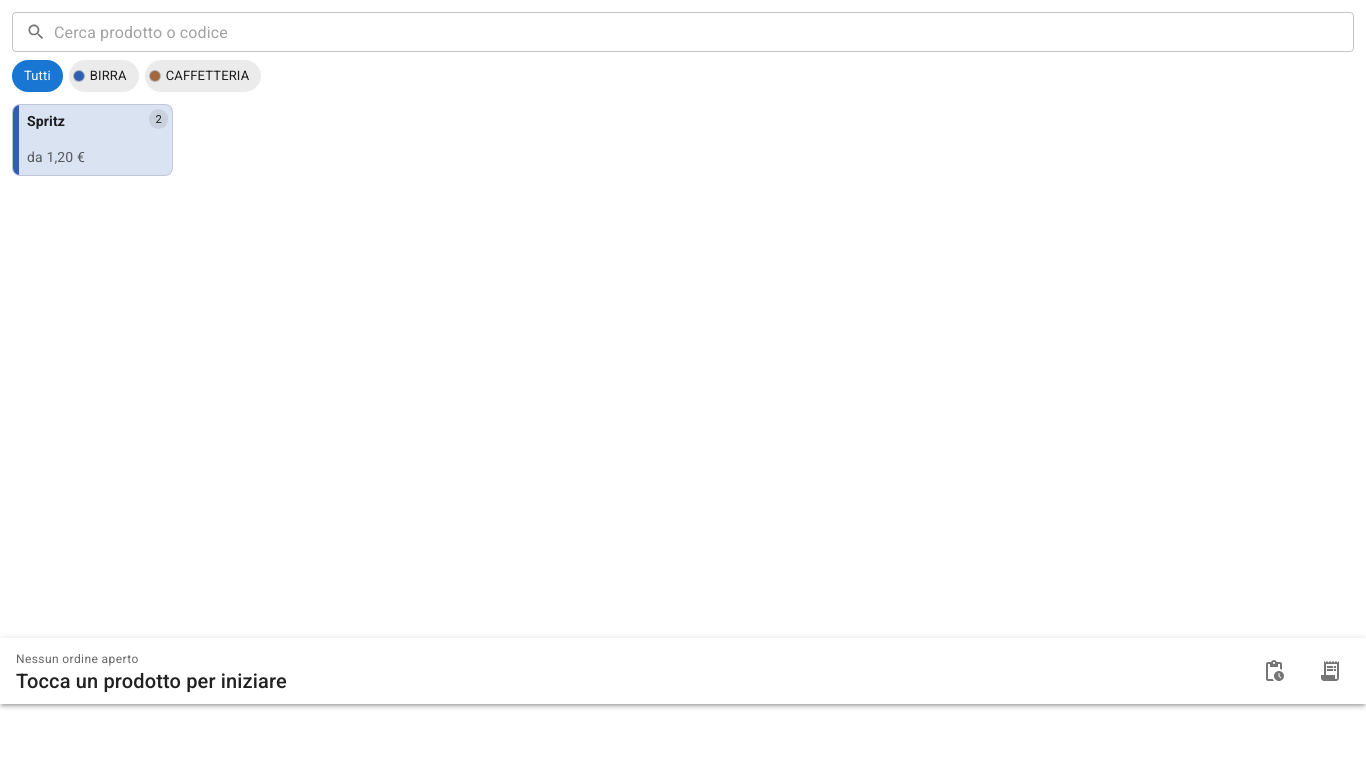
Scenario: PuntoVendita › gruppi di prodotti › una ricerca scioglie i gruppi e torna al listino piatto
Expected: the text "Spritz" is shown, [27,113,65,130]
Type "espresso" into the field with placeholder "Cerca prodotto o codice". click: (704, 32)
box: [54,12,1354,52]
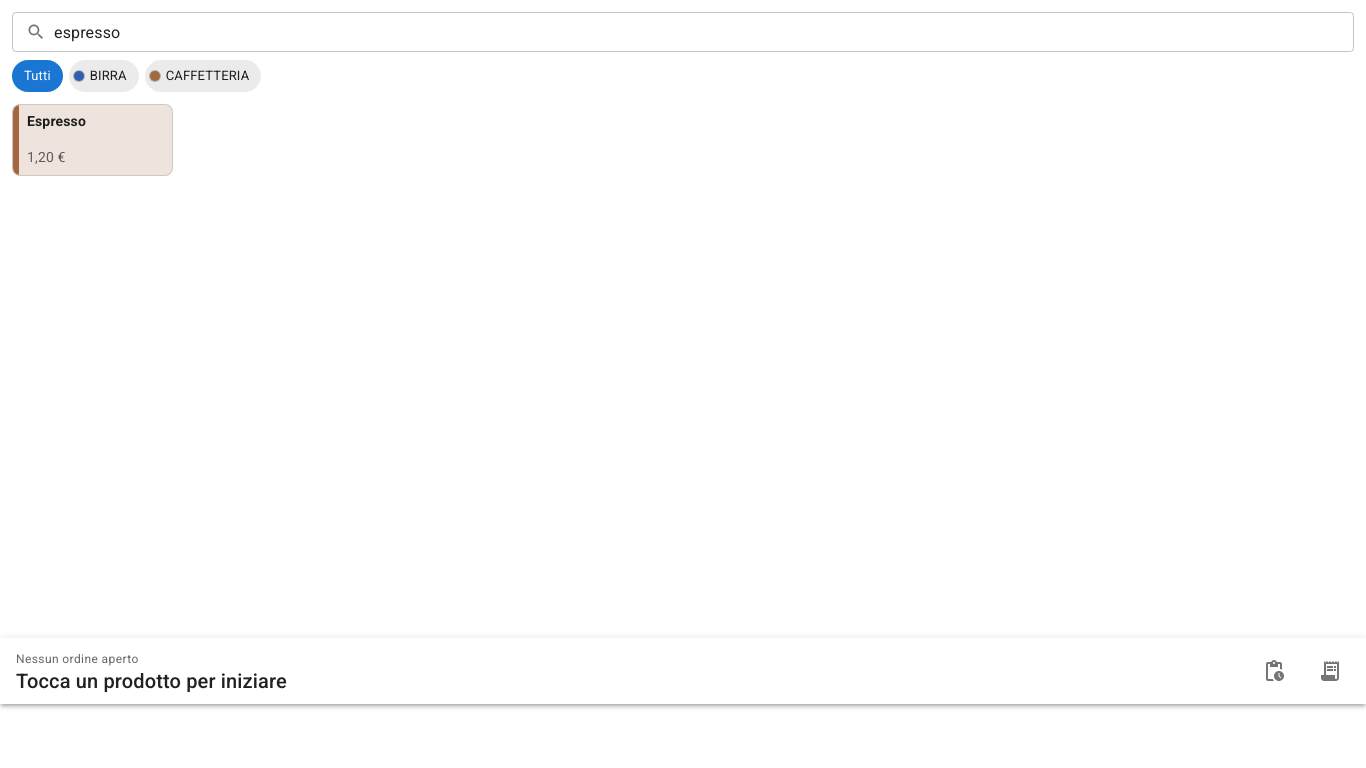
Now the text "Espresso" is shown, box [27,113,86,130]
Now the button "Spritz" is gone
